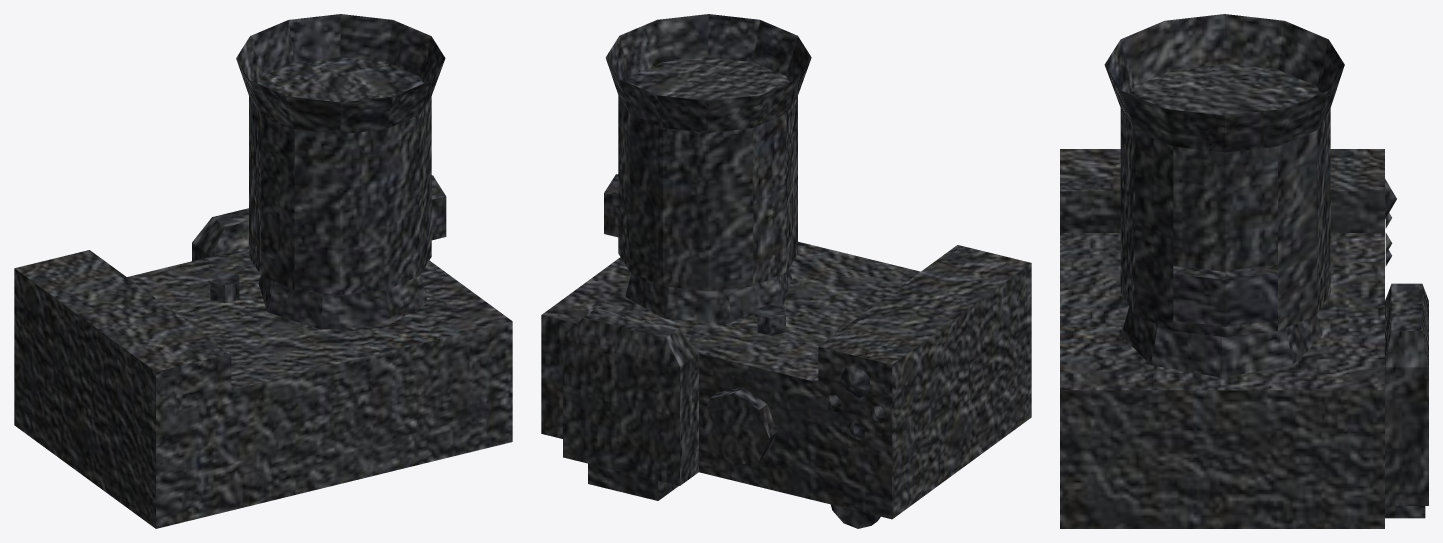
The model's file is camera.dae.
3 views of the same model, side by side, from view 1: azimuth 30°, elevation 25°; view 2: azimuth 150°, elevation 25°; view 3: azimuth 270°, elevation 25° (orthographic). The views are drawn at different scales.
Visible parts, largest first — view 1: Plane; view 2: Plane; view 3: Plane.
Part boxes in pixels (bbox=[...]): Plane: bbox=[14, 14, 512, 528]; Plane: bbox=[541, 14, 1031, 528]; Plane: bbox=[1060, 14, 1428, 528].
Bounding box in the file's own units: 4.69 × 3.66 × 4.8.
1 material, 1 textured.
